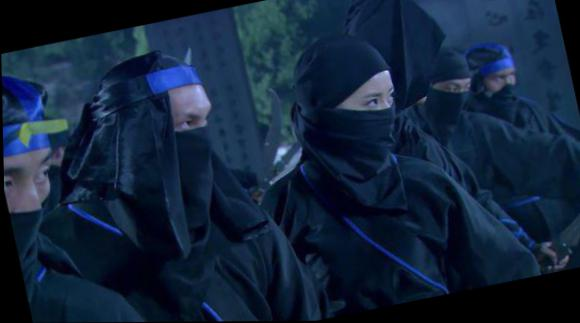OK: (150, 100, 226, 190), (335, 81, 408, 158), (432, 78, 478, 122)
WRONG: (4, 146, 77, 279), (485, 69, 520, 105)
